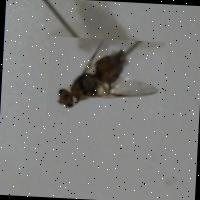Oriental-fruit-fly: (45, 34, 165, 118)
